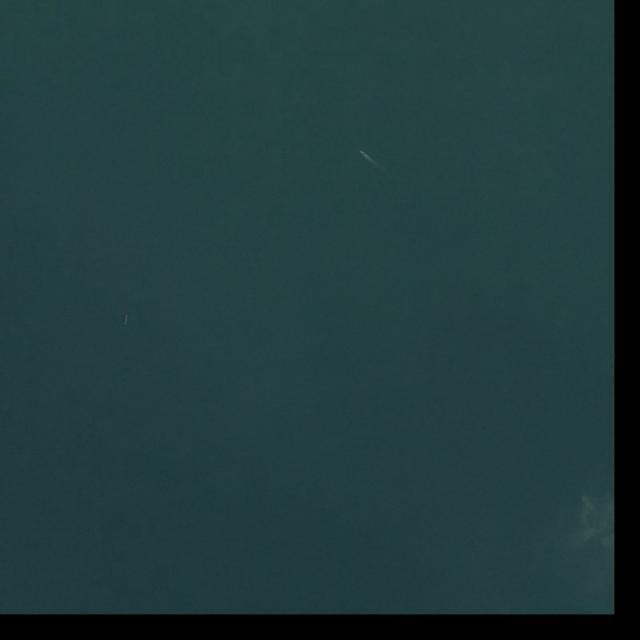ship: (359, 150, 367, 158), (125, 314, 129, 326)
